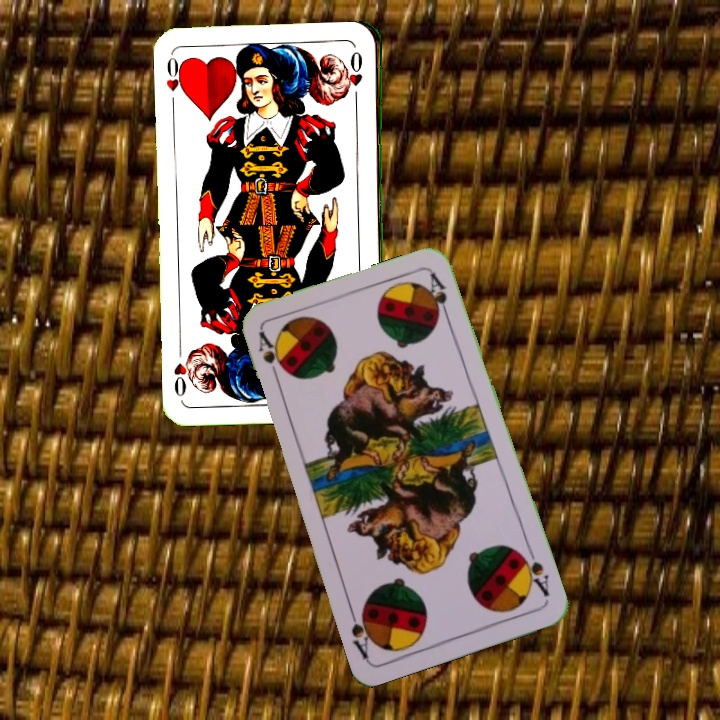HO: (162, 51, 188, 98)
SA: (515, 544, 552, 599), (254, 327, 286, 385)
